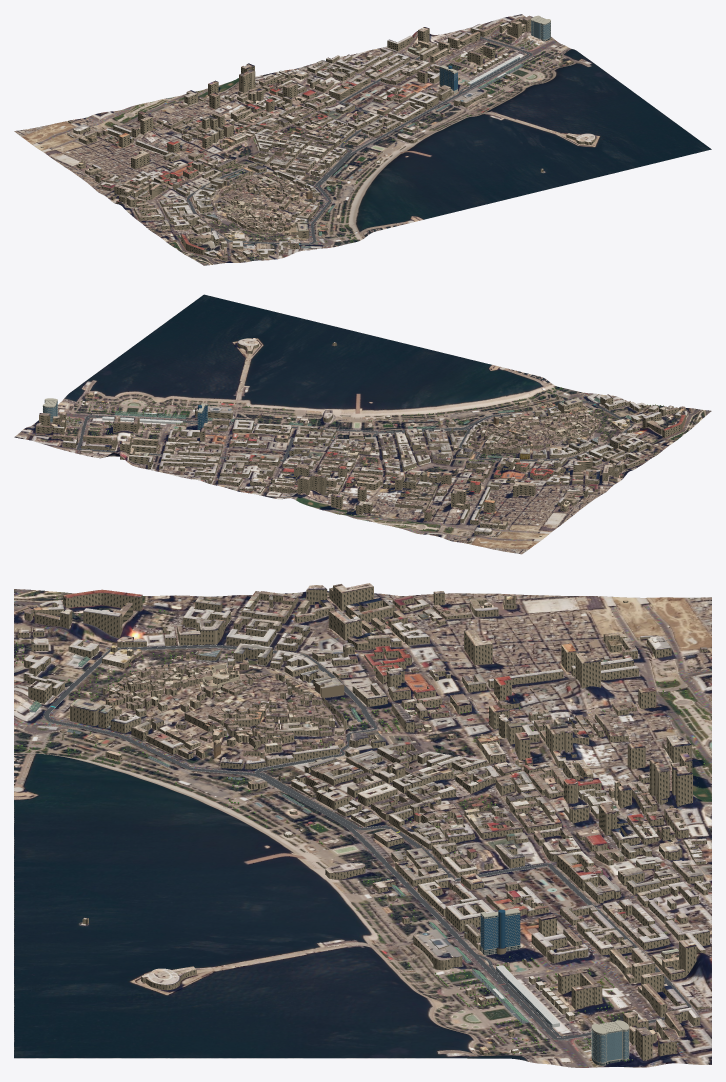
File: baku.glb
3 views of the same model, one above another, from view 1: azimuth 30°, elevation 25°; view 2: azimuth 150°, elevation 25°; view 3: azimuth 270°, elevation 25° (orthographic). The views are drawn at different scales.
Visible parts, largest first — view 1: Baku_GEDTM_Terrain, Baku_Window_Facades, Baku_OSM_Permanent_Buildings, Baku_Circuit_Surface, Baku_Mapped_Trees, Baku_Roadside_Safety_Walls, Baku_Event_Grandstands; view 2: Baku_GEDTM_Terrain, Baku_Window_Facades, Baku_OSM_Permanent_Buildings, Baku_Circuit_Surface, Baku_Mapped_Trees, Baku_Event_Grandstands, Baku_Roadside_Safety_Walls; view 3: Baku_GEDTM_Terrain, Baku_Window_Facades, Baku_OSM_Permanent_Buildings, Baku_Circuit_Surface, Baku_Roadside_Safety_Walls, Baku_Mapped_Trees, Baku_Event_Grandstands, Baku_44_Pit_Service_Bays.
Boxes of the visible parts, left/top/right/bottom form: Baku_GEDTM_Terrain: left=14, top=14, right=711, bottom=265; Baku_Window_Facades: left=40, top=19, right=595, bottom=261; Baku_OSM_Permanent_Buildings: left=41, top=15, right=595, bottom=259; Baku_Circuit_Surface: left=187, top=37, right=532, bottom=244; Baku_Mapped_Trees: left=106, top=34, right=561, bottom=259; Baku_Roadside_Safety_Walls: left=187, top=36, right=532, bottom=244; Baku_Event_Grandstands: left=228, top=63, right=524, bottom=248; Baku_GEDTM_Terrain: left=14, top=294, right=711, bottom=554; Baku_Window_Facades: left=35, top=340, right=687, bottom=542; Baku_OSM_Permanent_Buildings: left=36, top=338, right=687, bottom=541; Baku_Circuit_Surface: left=77, top=401, right=633, bottom=461; Baku_Mapped_Trees: left=66, top=387, right=692, bottom=532; Baku_Event_Grandstands: left=114, top=397, right=631, bottom=458; Baku_Roadside_Safety_Walls: left=76, top=401, right=633, bottom=461; Baku_GEDTM_Terrain: left=14, top=589, right=711, bottom=1067; Baku_Window_Facades: left=17, top=586, right=710, bottom=1060; Baku_OSM_Permanent_Buildings: left=17, top=583, right=710, bottom=1065; Baku_Circuit_Surface: left=44, top=645, right=691, bottom=1039; Baku_Roadside_Safety_Walls: left=43, top=644, right=697, bottom=1040; Baku_Mapped_Trees: left=15, top=594, right=706, bottom=1061; Baku_Event_Grandstands: left=29, top=656, right=529, bottom=1023; Baku_44_Pit_Service_Bays: left=496, top=965, right=559, bottom=1027.
Size of the model in its own units: 2470 by 115 by 1600.
Materials: 19 (3 with a texture image).
